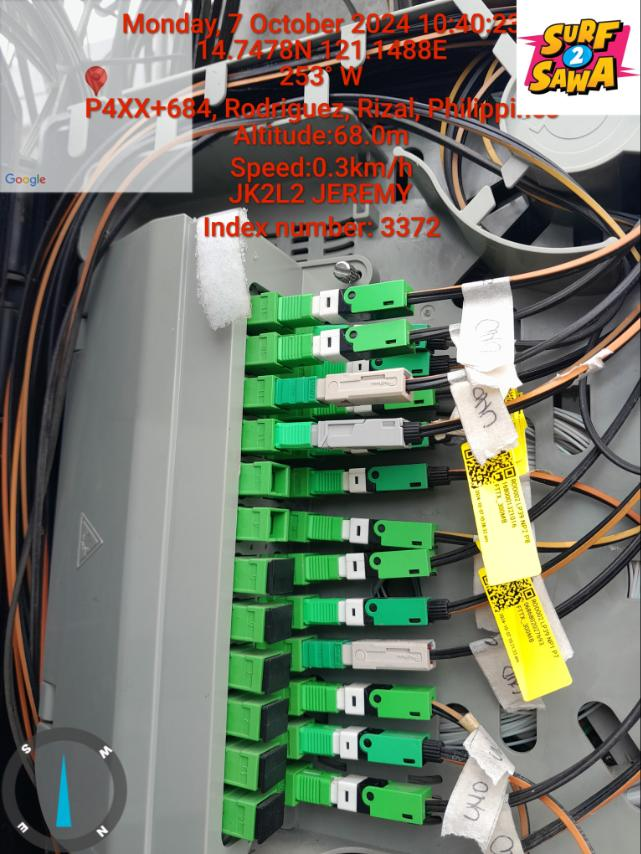no dust cap: (262, 506, 292, 547), (266, 462, 293, 505)
occupied: (293, 765, 446, 832), (303, 682, 464, 735), (299, 720, 449, 773), (274, 275, 432, 324), (304, 507, 454, 558), (299, 587, 461, 632), (303, 455, 459, 501), (274, 367, 426, 414), (277, 315, 419, 363), (302, 545, 455, 589), (310, 414, 461, 457), (302, 633, 450, 676), (304, 377, 449, 420), (273, 415, 436, 448), (308, 324, 466, 356), (304, 351, 458, 381)
vacant: (253, 786, 289, 848), (254, 742, 290, 794), (262, 650, 295, 698), (259, 696, 291, 742), (265, 601, 294, 647), (262, 559, 293, 600)
